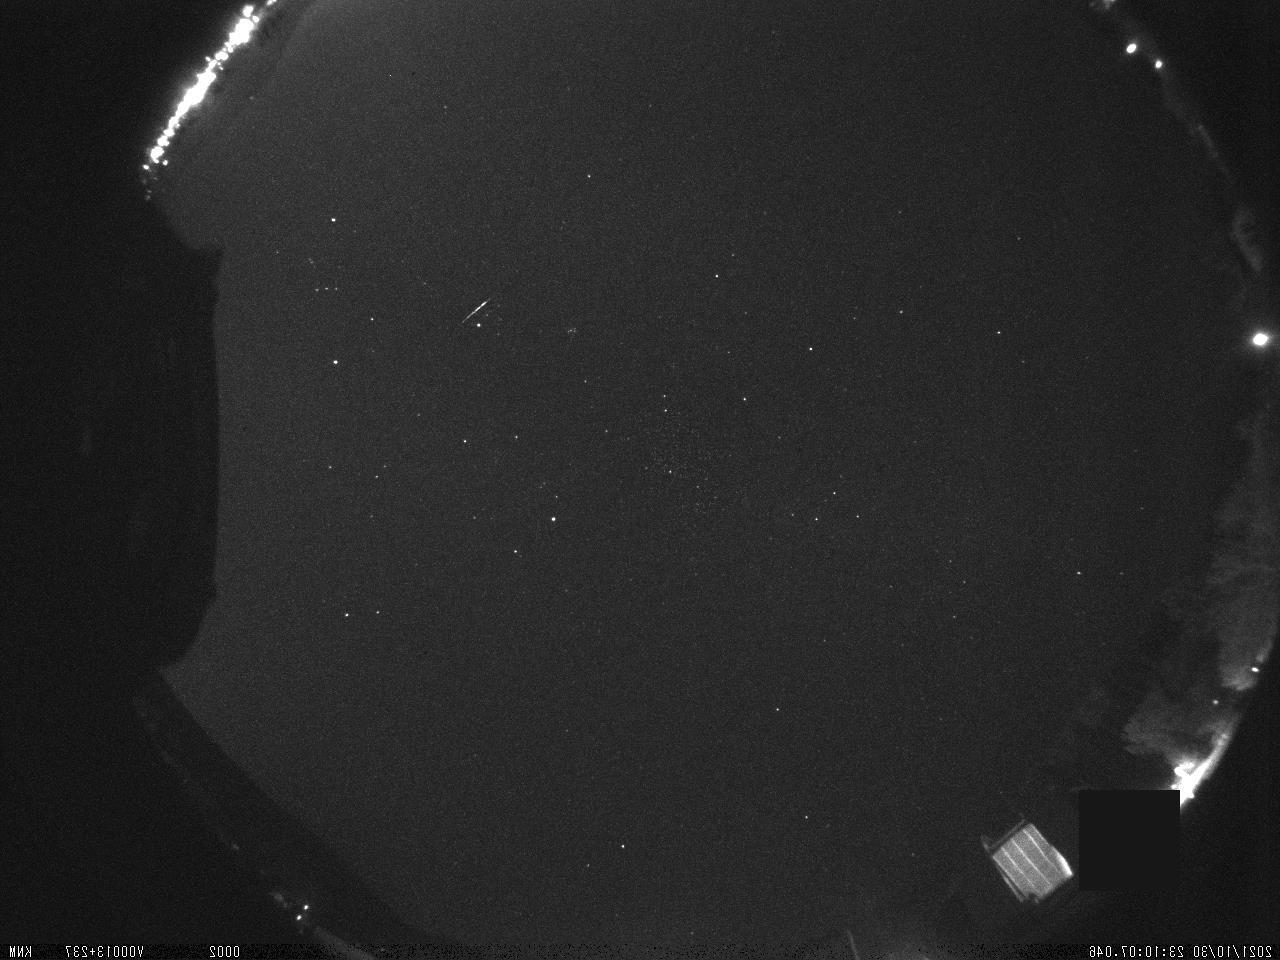meteor: (454, 284, 498, 334)
